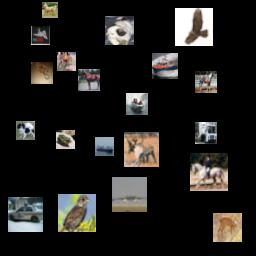airplane: (112, 177, 147, 212), (31, 26, 50, 45)
automobile: (8, 197, 43, 232)
bird: (58, 194, 96, 232), (175, 8, 213, 46)
cat: (31, 62, 53, 84)
deer: (124, 132, 159, 167), (213, 213, 242, 242), (57, 52, 76, 71)
dog: (105, 16, 134, 45), (16, 121, 35, 140)
frog: (56, 130, 75, 149)
ship: (152, 53, 178, 79), (126, 93, 148, 115), (95, 137, 114, 156)
truck: (195, 122, 217, 144)
